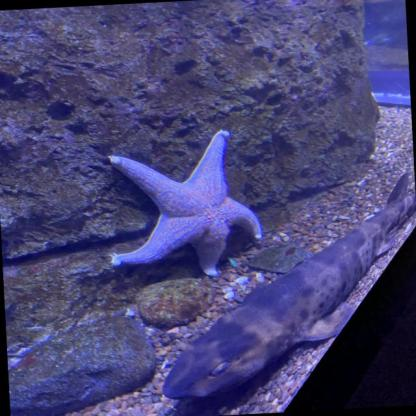shark: (154, 171, 416, 400)
starfish: (104, 128, 264, 282)
